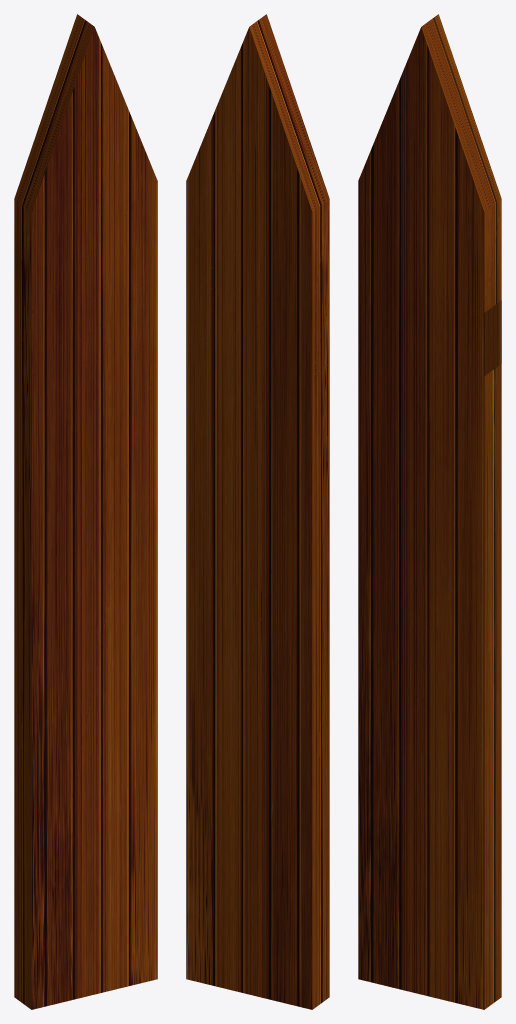
Rendered from WoodStay_One.fbx.
The picture shows the model from 3 angles, left to right: view 1: azimuth 30°, elevation 25°; view 2: azimuth 150°, elevation 25°; view 3: azimuth 330°, elevation 25°; orthographic projection.
Parts seen in each view (by area): view 1: WoodStay_One; view 2: WoodStay_One; view 3: WoodStay_One.
Part boxes in pixels (bbox=[...]): WoodStay_One: bbox=[14, 14, 157, 1009]; WoodStay_One: bbox=[186, 14, 329, 1009]; WoodStay_One: bbox=[358, 14, 501, 1009].
Bounding box in the file's own units: 20.83 × 153 × 5.
